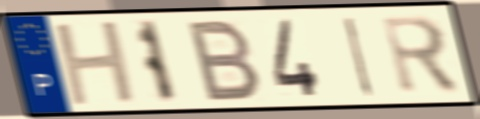1: (133, 17, 181, 106)
4: (272, 17, 321, 99)
B: (186, 17, 264, 104)
H: (50, 18, 141, 109)
I: (342, 15, 377, 100)
R: (378, 13, 464, 98)
